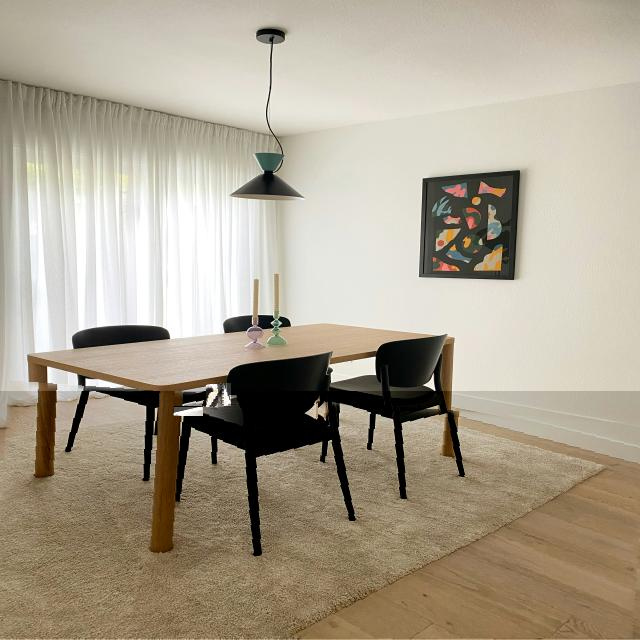floor: (0, 392, 640, 639), (207, 384, 224, 407), (304, 401, 317, 420), (175, 408, 203, 416), (224, 384, 231, 406)
